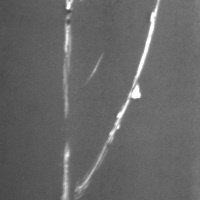scratches: (75, 1, 162, 198), (59, 0, 78, 110), (58, 143, 72, 199)
